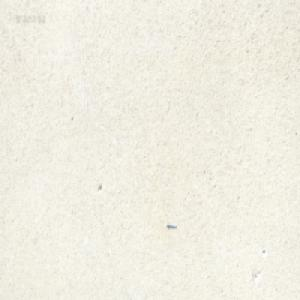Nail: (166, 222, 176, 229)
